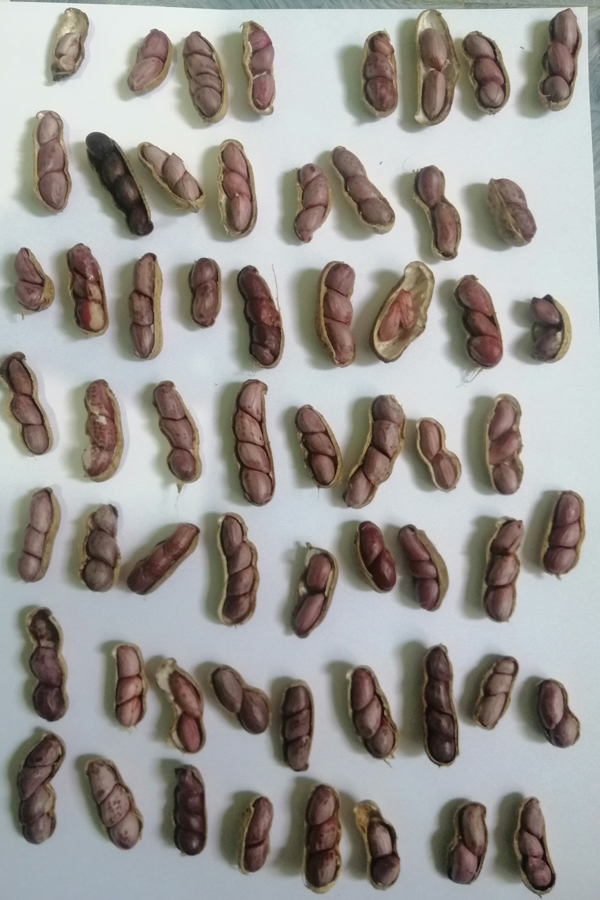Four: (338, 383, 408, 502), (222, 374, 282, 506), (83, 124, 153, 236), (13, 728, 69, 848), (209, 509, 264, 625), (233, 263, 290, 366), (418, 640, 462, 769), (177, 29, 233, 125), (162, 759, 212, 863)
Three: (327, 137, 398, 239), (145, 373, 203, 491), (79, 756, 148, 851), (126, 516, 201, 602), (531, 6, 590, 110), (339, 663, 401, 761), (508, 792, 568, 892), (296, 782, 346, 897), (453, 270, 508, 373), (475, 518, 526, 627), (137, 137, 207, 216), (392, 521, 449, 618), (485, 391, 531, 505), (318, 254, 363, 370), (538, 487, 593, 580), (5, 351, 48, 468), (27, 106, 74, 210), (459, 29, 512, 121), (238, 13, 282, 122), (353, 27, 404, 120), (296, 398, 344, 495), (64, 242, 112, 337), (126, 247, 166, 361), (77, 499, 124, 596), (275, 678, 320, 776), (15, 483, 60, 580), (216, 135, 257, 236), (107, 638, 150, 732), (290, 155, 330, 246), (472, 653, 518, 729)
Two: (374, 257, 438, 369), (71, 369, 130, 488), (20, 603, 73, 723), (283, 542, 341, 646), (350, 797, 412, 891), (413, 5, 459, 131), (477, 165, 544, 250), (409, 161, 464, 263), (345, 513, 407, 600), (211, 662, 277, 741), (155, 661, 208, 756), (441, 795, 491, 892), (529, 675, 589, 751), (412, 414, 464, 496), (236, 791, 282, 880), (41, 2, 89, 87), (523, 285, 572, 368), (9, 242, 57, 320), (127, 25, 174, 102), (181, 255, 227, 328)
